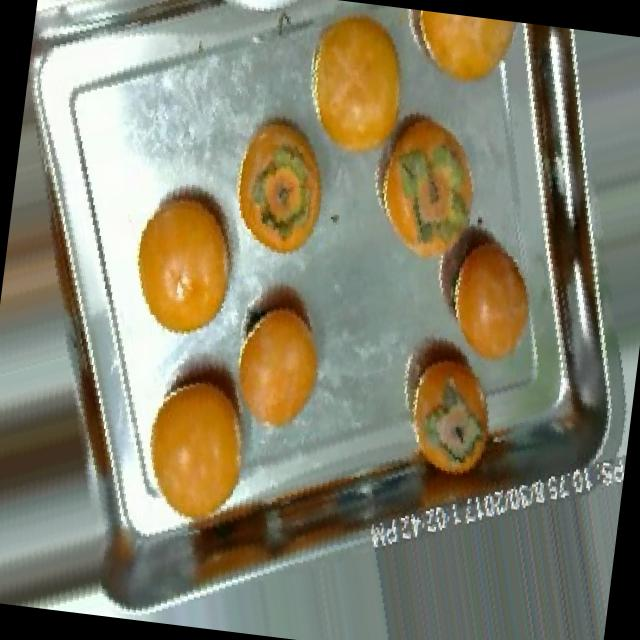Fruit: (123, 333, 284, 550), (357, 82, 522, 286), (110, 150, 256, 360), (280, 0, 432, 184), (216, 94, 354, 278), (380, 312, 522, 488), (418, 208, 558, 384), (215, 264, 347, 450), (391, 8, 528, 102)
